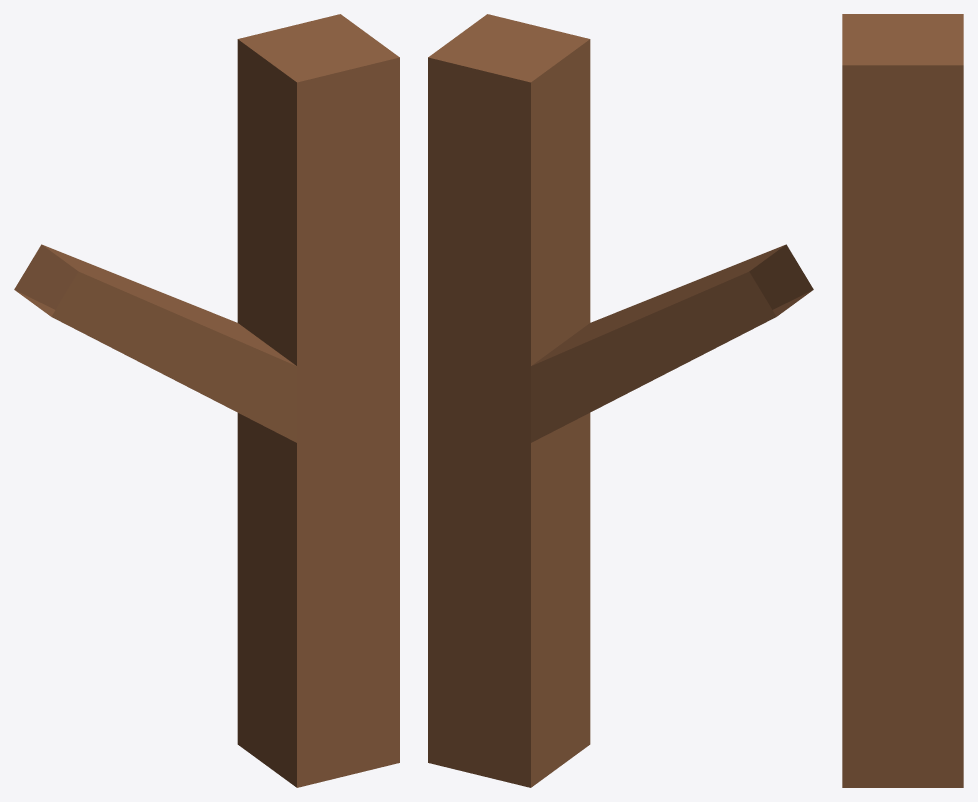
The model's file is tree-winter-trunk-013.glb.
3 views of the same model, side by side, from view 1: azimuth 30°, elevation 25°; view 2: azimuth 150°, elevation 25°; view 3: azimuth 270°, elevation 25° (orthographic). The views are drawn at different scales.
Parts seen in each view (by area): view 1: Cube.052_147; view 2: Cube.052_147; view 3: Cube.052_147.
Boxes of the visible parts, x1,y1,x2,y2 form: Cube.052_147: [14, 14, 399, 787]; Cube.052_147: [428, 14, 813, 787]; Cube.052_147: [842, 14, 963, 787].
Bounding box in the file's own units: 0.5895 × 1.18 × 0.1796.
